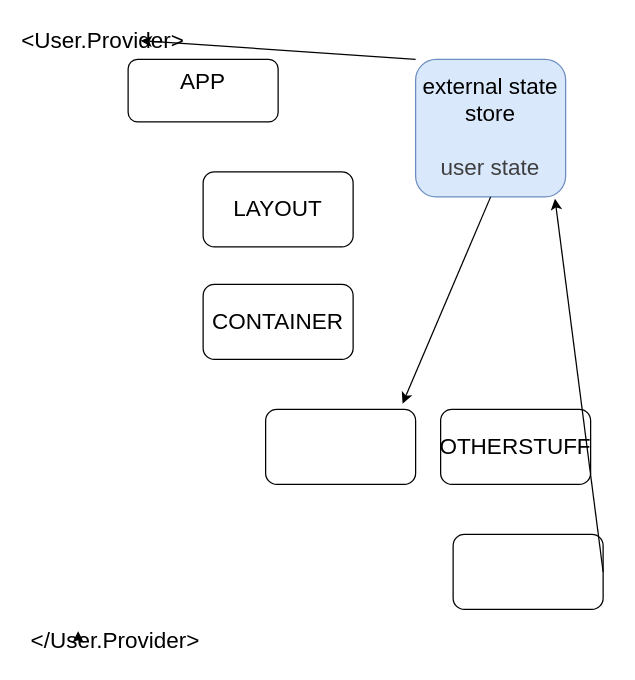
The diagram is 635 pixels wide and 680 high, and some of its shapes have lost their labels. The shapes that lost their labels are listed below. From the top down, each one's centre as x and y in pixels, then its label:
(340,446): HEADER
(527,571): USERINFO
